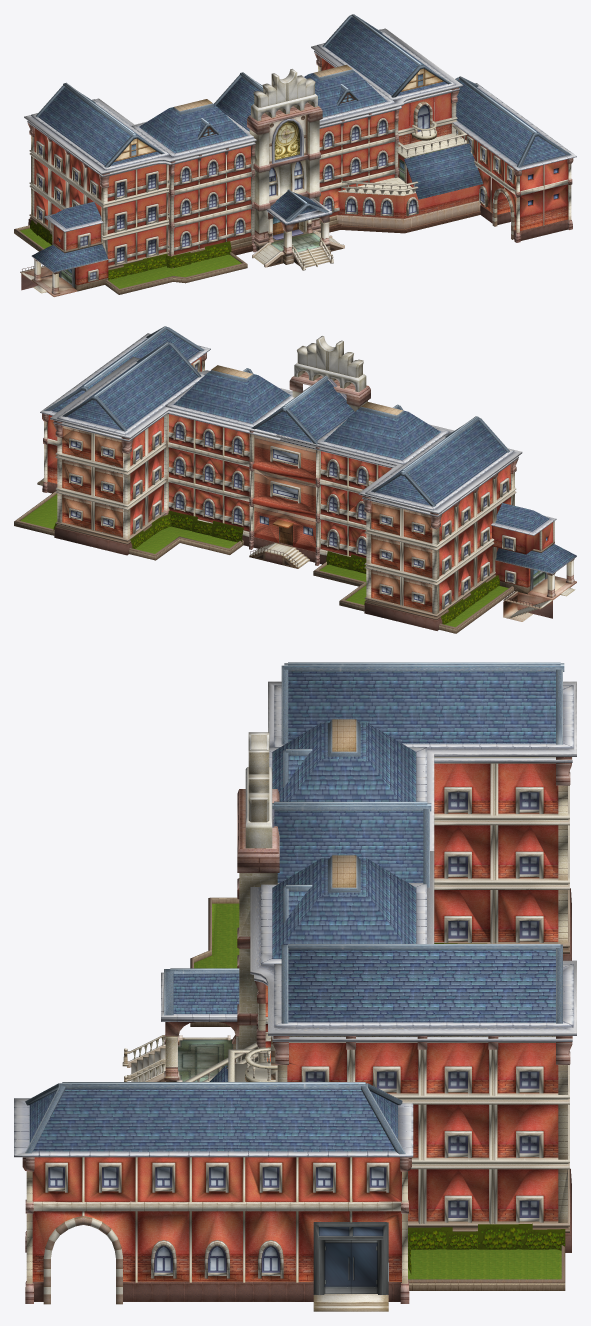
File: s_SWEmain01.glb
3 renders of one model, top to bottom at view 1: azimuth 30°, elevation 25°; view 2: azimuth 150°, elevation 25°; view 3: azimuth 270°, elevation 25°, orthographic. The views are drawn at different scales.
Parts seen in each view (by area): view 1: s_SWEmain01; view 2: s_SWEmain01; view 3: s_SWEmain01.
Boxes of the visible parts, box(x1,y1,x2,y2) form: s_SWEmain01: box(14, 14, 576, 296); s_SWEmain01: box(14, 326, 576, 633); s_SWEmain01: box(14, 662, 576, 1311).
Size of the model in its own units: 61.29 by 22.87 by 31.54.
17 materials, 17 textured.
